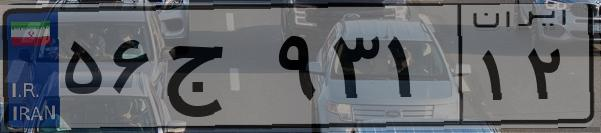1: (385, 28, 445, 110), (475, 38, 525, 113)
2: (525, 38, 570, 115)
3: (330, 28, 385, 110)
5: (57, 26, 110, 100)
6: (110, 28, 158, 98)
9: (270, 28, 330, 110)
ج: (158, 20, 270, 120)
